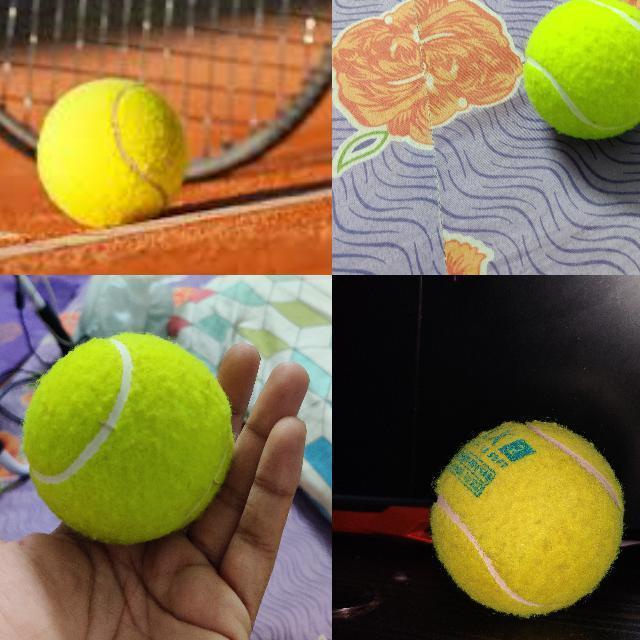tennis-ball: (22, 331, 234, 546), (428, 420, 627, 621), (32, 75, 186, 229), (523, 0, 639, 139)
